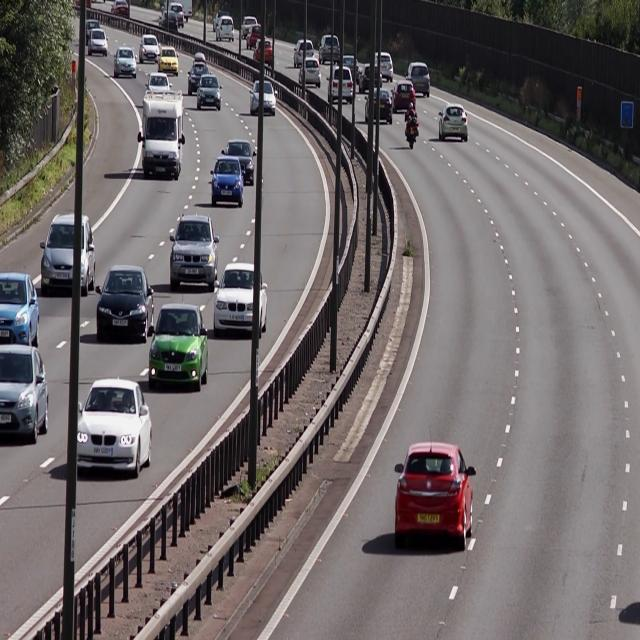Vehicle: (70, 376, 156, 488), (392, 437, 472, 548), (144, 305, 208, 392), (92, 264, 156, 346), (0, 341, 49, 445), (37, 212, 92, 298), (138, 91, 184, 184), (167, 214, 219, 292), (211, 264, 267, 335), (0, 270, 37, 352), (208, 156, 245, 210), (225, 137, 254, 187), (434, 104, 468, 143), (361, 87, 393, 125), (194, 75, 222, 114), (326, 68, 356, 104), (249, 78, 275, 118), (389, 81, 415, 117), (111, 47, 136, 82), (298, 57, 322, 93), (318, 33, 342, 69), (249, 35, 276, 67), (408, 57, 430, 96), (358, 63, 382, 97), (292, 35, 316, 69), (138, 28, 160, 65), (156, 42, 178, 78), (86, 29, 108, 59), (374, 49, 394, 81), (215, 16, 236, 42)
